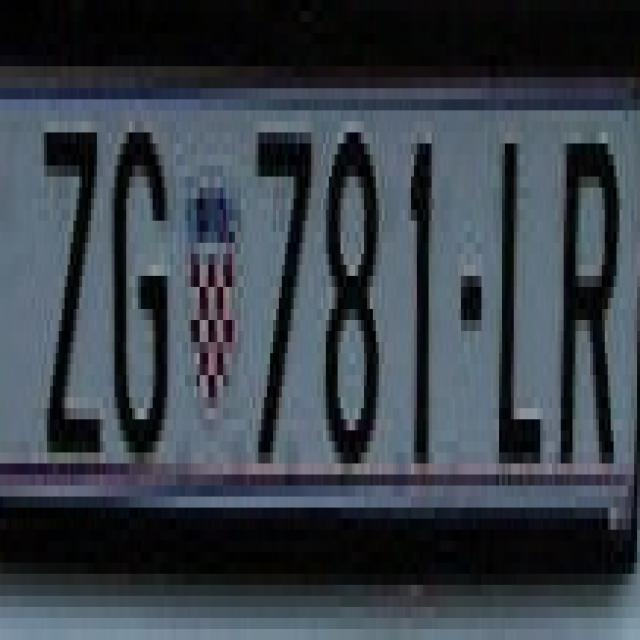1: (402, 100, 438, 474)
7: (253, 110, 314, 486)
8: (323, 110, 382, 463)
G: (115, 110, 173, 463)
L: (490, 110, 543, 463)
Z: (41, 100, 103, 442)
